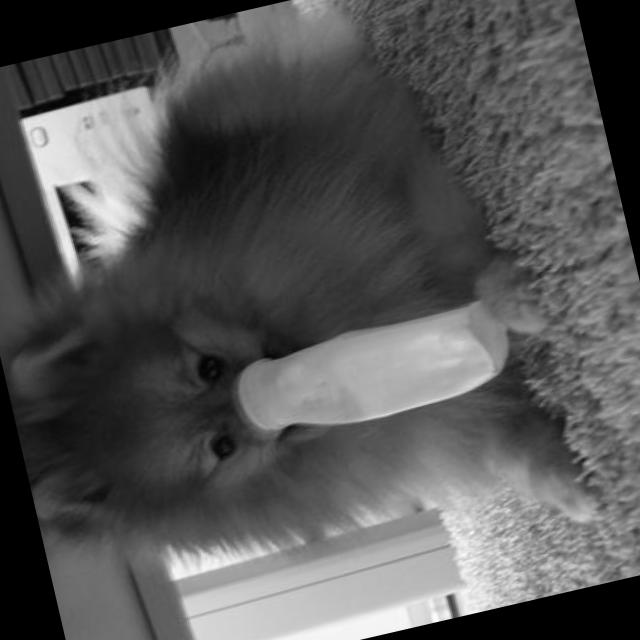laying down: (0, 0, 611, 640)
